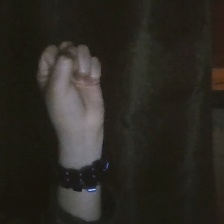S: (28, 33, 126, 145)
